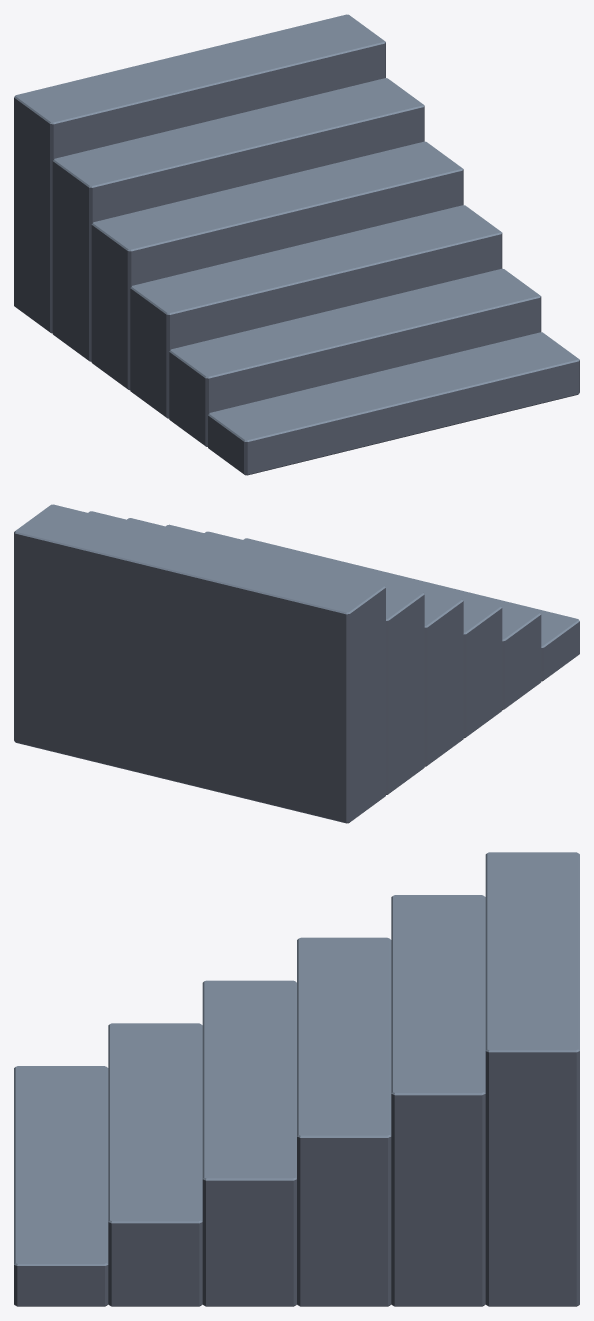
File: stair-full.glb
3 views of the same model, one above another, from view 1: azimuth 30°, elevation 25°; view 2: azimuth 150°, elevation 25°; view 3: azimuth 270°, elevation 25° (orthographic). The views are drawn at different scales.
Parts seen in each view (by area): view 1: stair-full__body; view 2: stair-full__body; view 3: stair-full__body.
Part boxes in pixels (x1,y1,x2,y2): stair-full__body: (14,14,579,475); stair-full__body: (14,504,579,823); stair-full__body: (14,852,579,1306).
Bounding box in the file's own units: 2 × 1.2 × 2.4.
